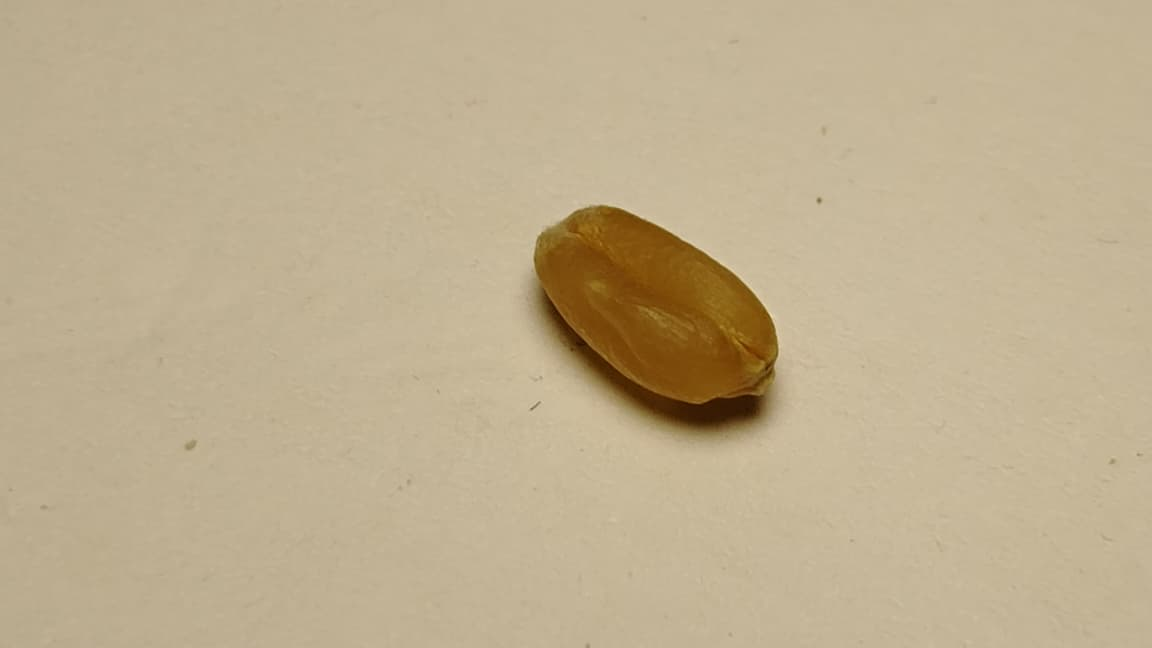healthy: (535, 206, 777, 401)
